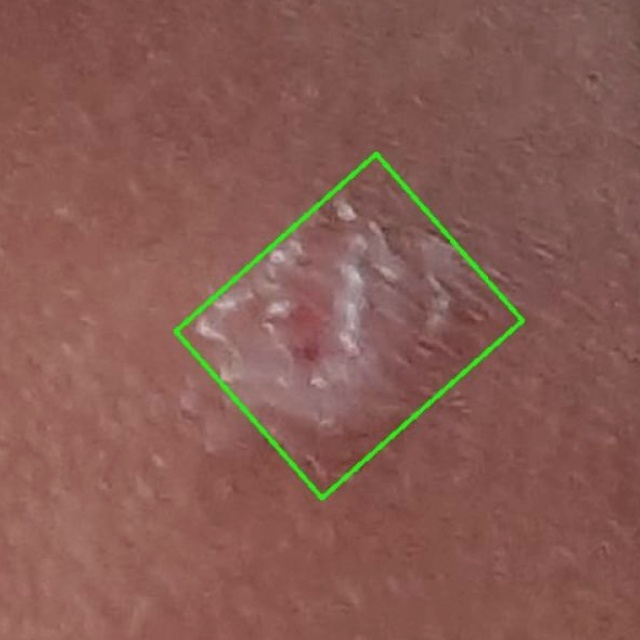Contact Dermatitis: (174, 155, 521, 498)
